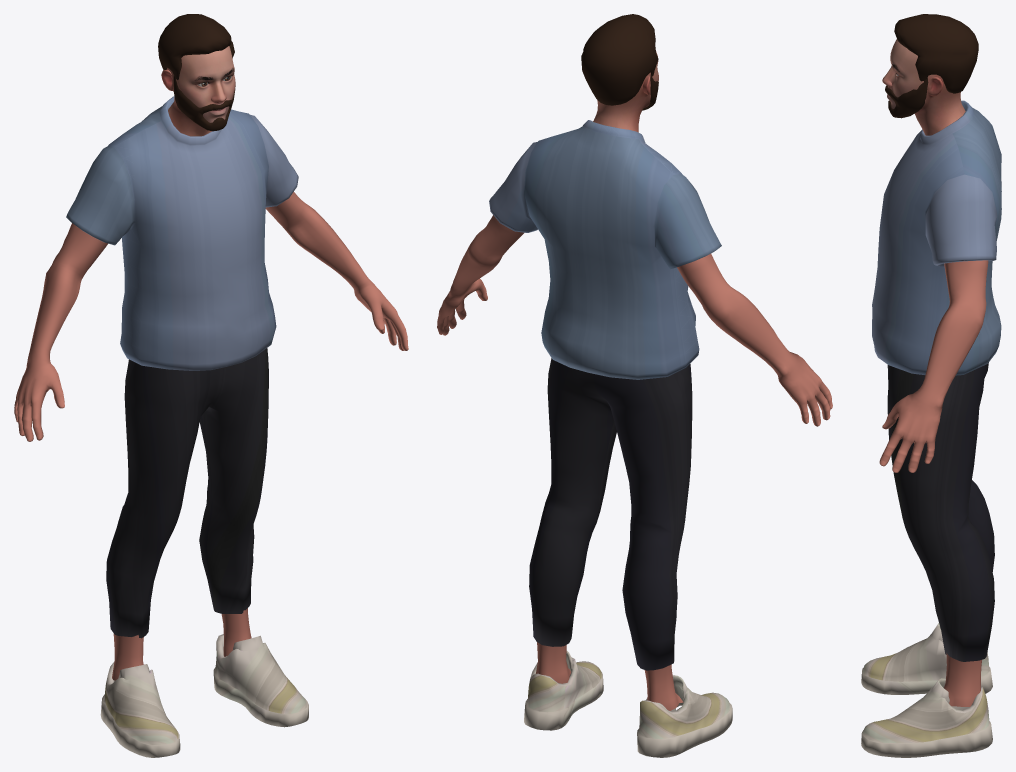
3 views of the same model, side by side, from view 1: azimuth 30°, elevation 25°; view 2: azimuth 150°, elevation 25°; view 3: azimuth 270°, elevation 25° (orthographic).
Visible parts, largest first — view 1: Wolf3D_Outfit_Top, Wolf3D_Outfit_Bottom, Wolf3D_Body, Wolf3D_Outfit_Footwear, Wolf3D_Head, Wolf3D_Hair, Wolf3D_Beard; view 2: Wolf3D_Outfit_Top, Wolf3D_Outfit_Bottom, Wolf3D_Body, Wolf3D_Outfit_Footwear, Wolf3D_Hair, Wolf3D_Head; view 3: Wolf3D_Outfit_Top, Wolf3D_Outfit_Bottom, Wolf3D_Outfit_Footwear, Wolf3D_Body, Wolf3D_Hair, Wolf3D_Head, Wolf3D_Beard.
Boxes of the visible parts, x1,y1,x2,y2 form: Wolf3D_Outfit_Top: [66, 96, 298, 370]; Wolf3D_Outfit_Bottom: [106, 348, 268, 638]; Wolf3D_Body: [14, 192, 408, 680]; Wolf3D_Outfit_Footwear: [100, 634, 308, 757]; Wolf3D_Head: [161, 46, 235, 136]; Wolf3D_Hair: [158, 14, 234, 79]; Wolf3D_Beard: [173, 75, 235, 131]; Wolf3D_Outfit_Top: [489, 120, 721, 379]; Wolf3D_Outfit_Bottom: [529, 358, 692, 670]; Wolf3D_Body: [437, 215, 832, 710]; Wolf3D_Outfit_Footwear: [524, 651, 732, 757]; Wolf3D_Hair: [581, 14, 658, 105]; Wolf3D_Head: [593, 51, 658, 132]; Wolf3D_Outfit_Top: [872, 100, 1001, 375]; Wolf3D_Outfit_Bottom: [887, 362, 994, 661]; Wolf3D_Outfit_Footwear: [861, 623, 992, 757]; Wolf3D_Body: [879, 260, 988, 706]; Wolf3D_Hair: [894, 14, 978, 93]; Wolf3D_Head: [882, 39, 965, 135]; Wolf3D_Beard: [885, 78, 928, 118].
Bounding box in the file's own units: 1.06 × 1.86 × 0.3385.
10 materials, 10 textured.
